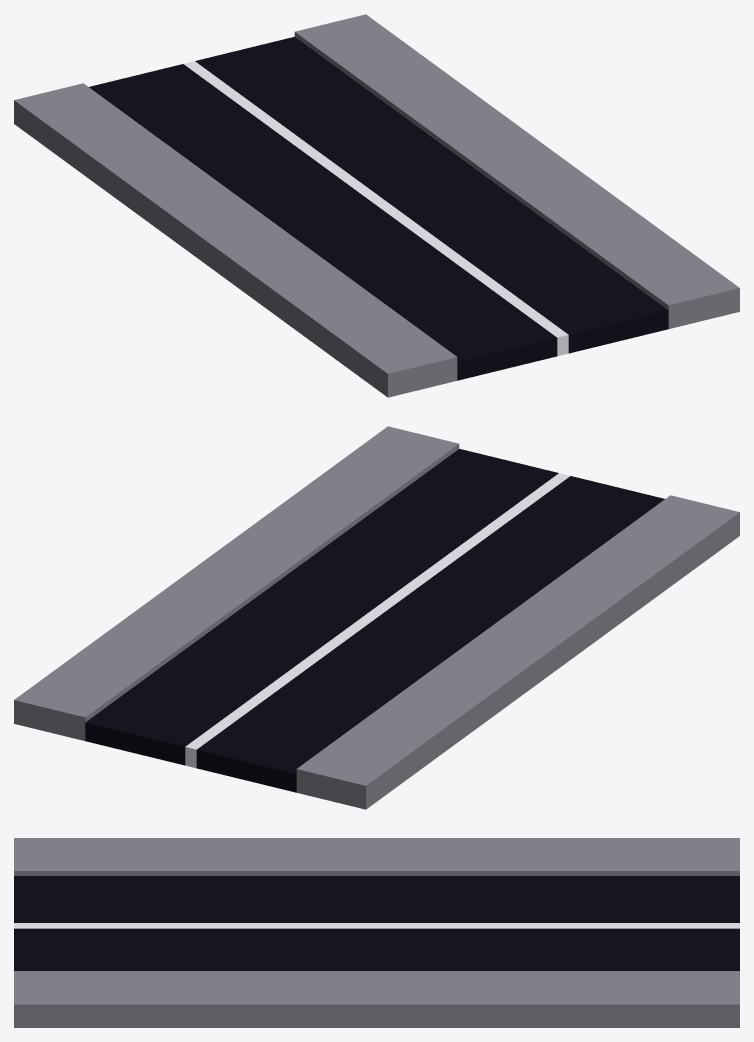
File: Road.fbx
The picture shows the model from 3 angles, top to bottom: view 1: azimuth 30°, elevation 25°; view 2: azimuth 150°, elevation 25°; view 3: azimuth 270°, elevation 25°; orthographic projection. The views are drawn at different scales.
Parts seen in each view (by area): view 1: Cube; view 2: Cube; view 3: Cube.
Part boxes in pixels (<box>): Cube: <box>14,14,739,397</box>; Cube: <box>14,426,739,809</box>; Cube: <box>14,838,739,1027</box>.
Size of the model in its own units: 655 by 1204 by 42.25.
